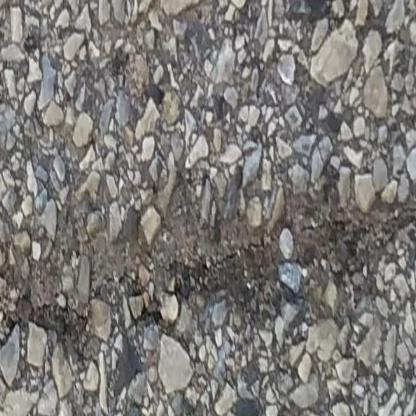Cracks: (0, 191, 416, 349)
